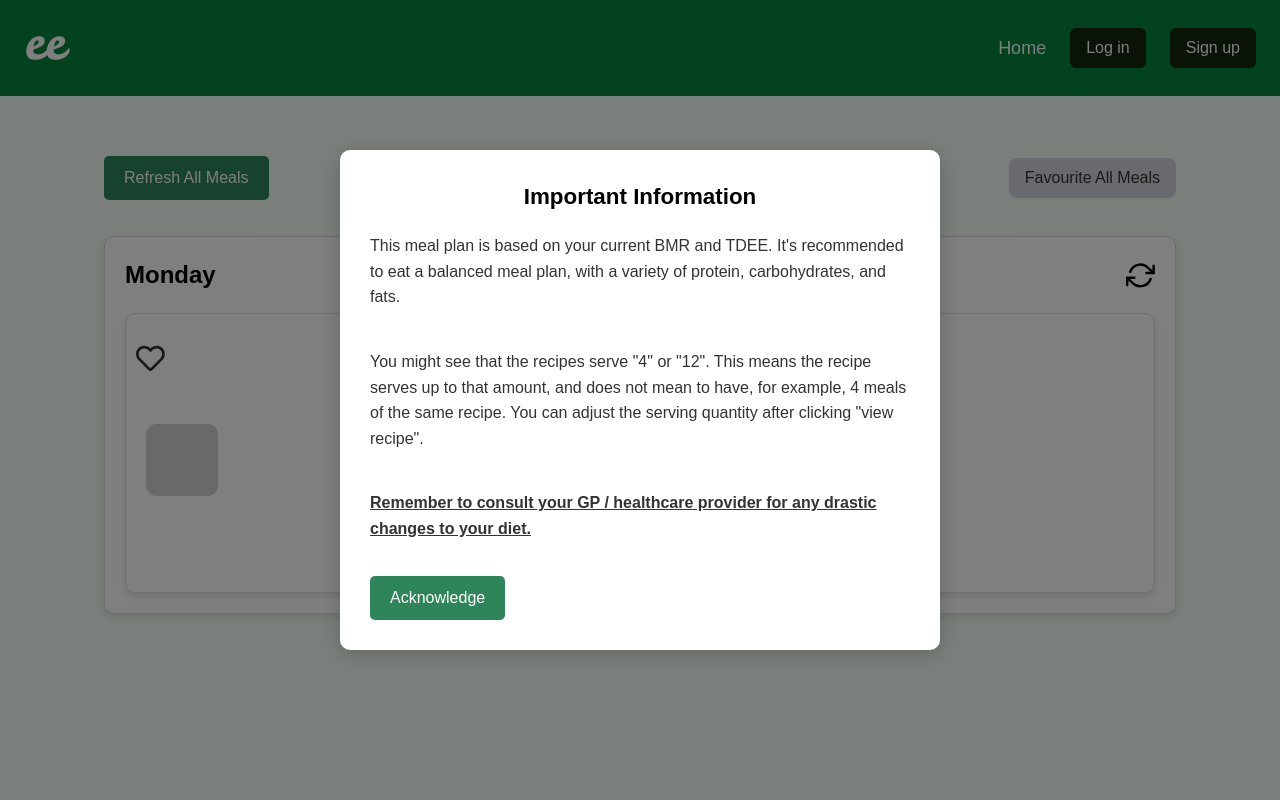
Test: MealPlan Component › hides the information panel when "Acknowledge" is clicked
Click the button "Acknowledge": point(438, 598) [370,576,505,620]
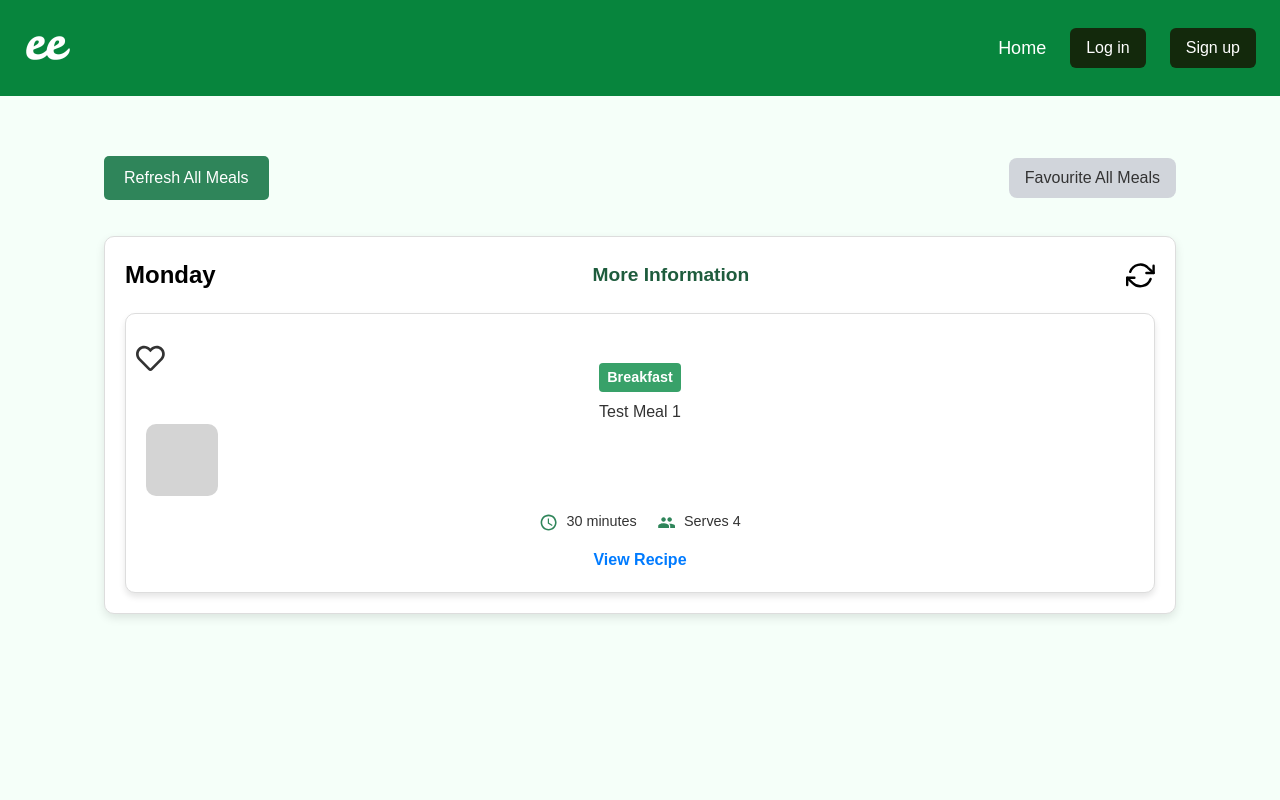
Check: the text "Important Information" is gone
